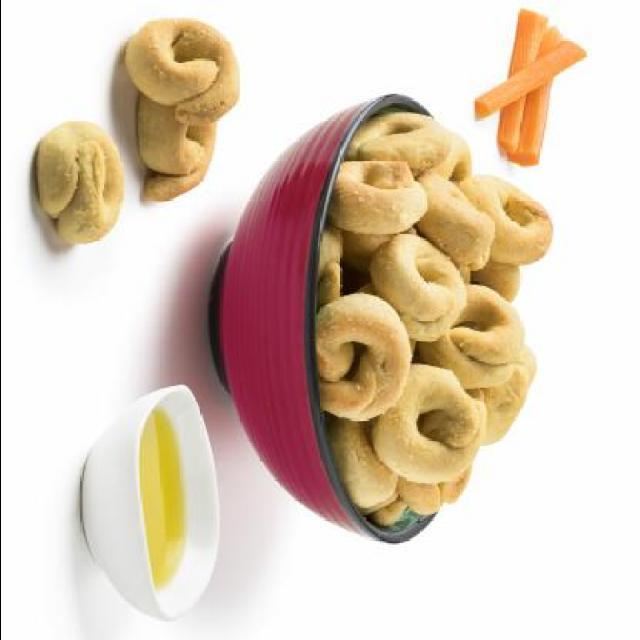Taralli: (308, 108, 564, 516), (30, 11, 238, 248)
